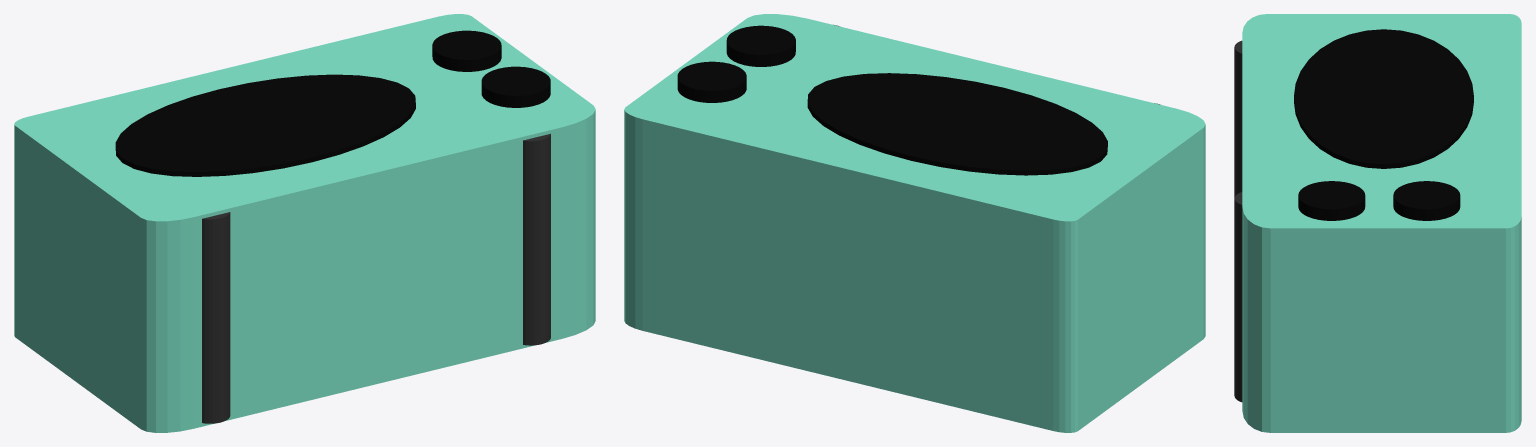
Rendered from micro_wave.fbx.
3 views of the same model, side by side, from view 1: azimuth 30°, elevation 25°; view 2: azimuth 150°, elevation 25°; view 3: azimuth 270°, elevation 25° (orthographic). The views are drawn at different scales.
Visible parts, largest first — view 1: Cube, Circle, Cylinder.002, Cylinder.004, Cylinder, Cylinder.001; view 2: Cube, Circle, Cylinder, Cylinder.001; view 3: Cube, Circle, Cylinder, Cylinder.001, Cylinder.004, Cylinder.002.
Part boxes in pixels (x1,y1,x2,y2): Cube: (14,14,595,432); Circle: (115,74,415,176); Cylinder.002: (202,212,230,423); Cylinder.004: (523,133,550,345); Cylinder: (432,30,501,71); Cylinder.001: (481,66,550,107); Cube: (624,14,1205,432); Circle: (807,73,1107,175); Cylinder: (677,61,746,102); Cylinder.001: (726,25,795,66); Cube: (1242,14,1521,432); Circle: (1294,29,1473,168); Cylinder: (1393,181,1460,220); Cylinder.001: (1298,181,1365,220); Cylinder.004: (1234,192,1242,402); Cylinder.002: (1234,40,1242,197).
Bounding box in the file's own units: 504 × 237 × 285.
